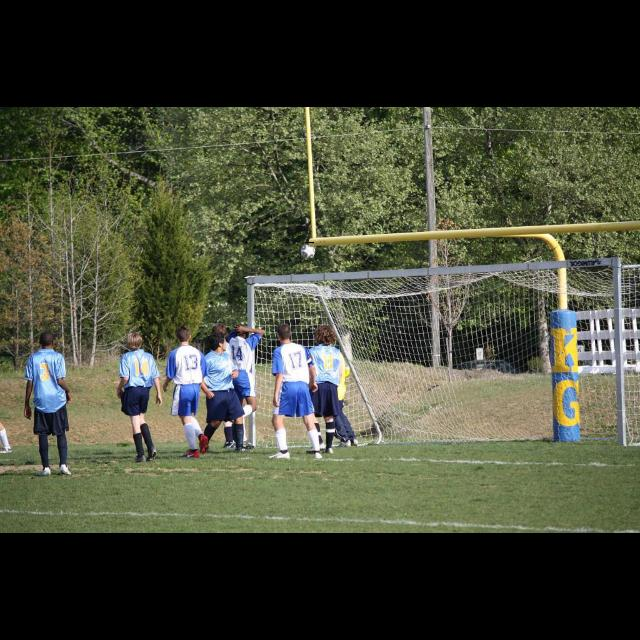Football: (300, 242, 314, 258)
